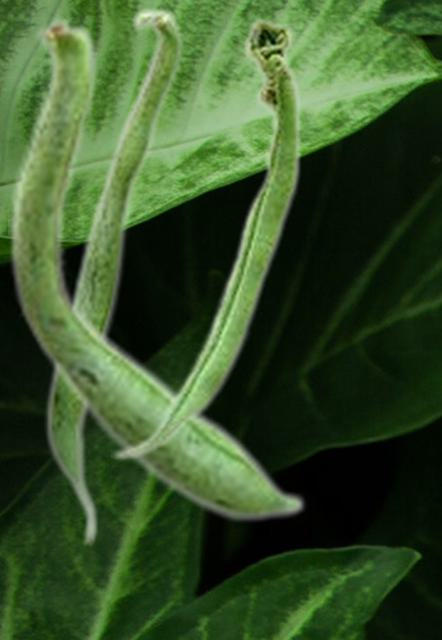french_bean: (8, 13, 306, 523), (111, 15, 301, 461), (44, 6, 183, 548)
